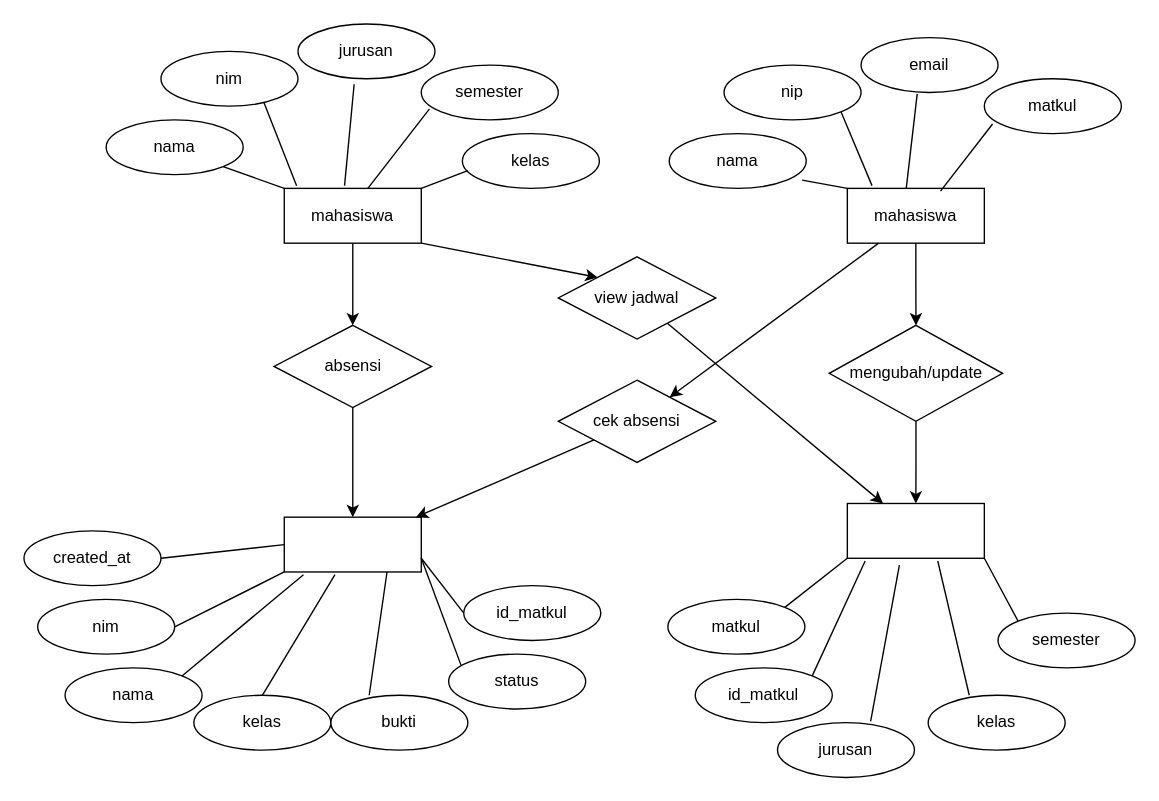
This 1159x801 diagram has some shape labels left out. The shapes that lost their labels are listed below. From the top down, each one's box as (x1, y1, x2, y2) in pixels, then its label:
(283, 516, 421, 572): absens
(846, 502, 984, 558): jadwal
